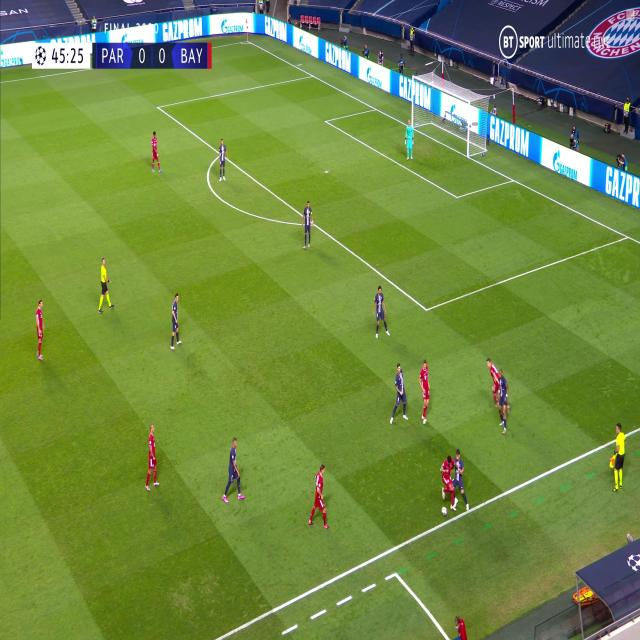ball: (442, 508, 447, 518)
player: (220, 438, 246, 506), (306, 466, 332, 534), (486, 358, 506, 433), (608, 424, 628, 496), (452, 450, 470, 516), (389, 364, 408, 425), (145, 425, 160, 494), (96, 257, 114, 314), (439, 453, 455, 514), (373, 286, 390, 340), (418, 360, 432, 424), (498, 367, 510, 438), (34, 299, 47, 364), (169, 294, 183, 352), (302, 200, 313, 252), (150, 131, 162, 174), (404, 115, 415, 161), (217, 137, 227, 183)
